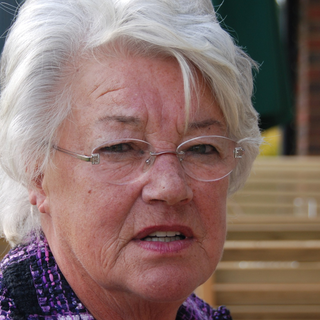eye: (181, 138, 219, 162), (95, 141, 140, 158)
